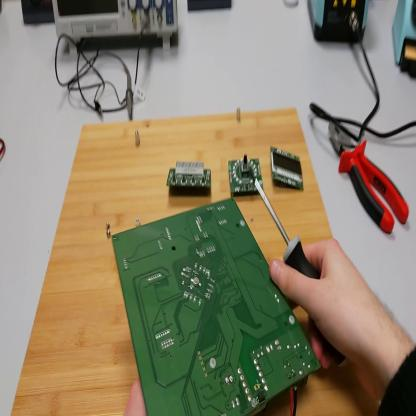hand: (270, 238, 384, 374), (125, 379, 147, 413)
low voltage board: (115, 201, 322, 416)
oscilloscope: (53, 2, 180, 56)
oscilloscope probe tip: (124, 65, 135, 121)
pliers: (330, 121, 410, 234)
screwdriver-: (251, 171, 350, 369)
socket: (21, 1, 55, 28)
welder base: (392, 2, 416, 76)
welder station: (309, 1, 370, 44)
working area: (12, 107, 379, 415)
